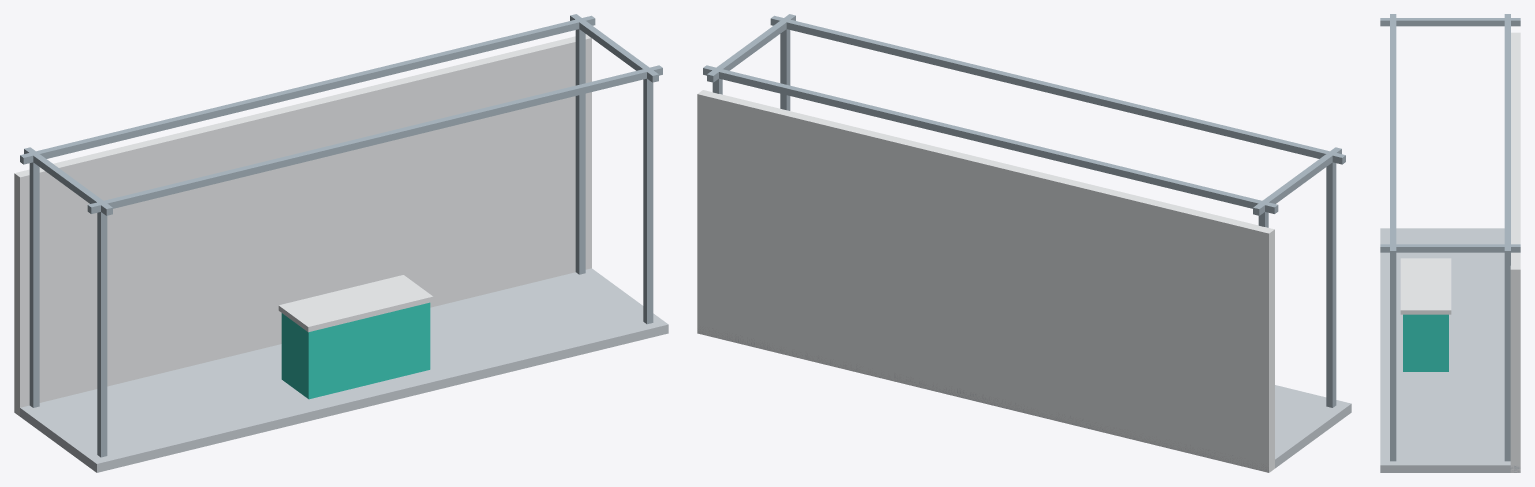
3 views of the same model, side by side, from view 1: azimuth 30°, elevation 25°; view 2: azimuth 150°, elevation 25°; view 3: azimuth 270°, elevation 25° (orthographic). The views are drawn at different scales.
Parts seen in each view (by area): view 1: Exhibition Booth Concept; view 2: Exhibition Booth Concept; view 3: Exhibition Booth Concept.
Part boxes in pixels (box(x1,y1,x2,y2)): Exhibition Booth Concept: box(14, 14, 668, 472); Exhibition Booth Concept: box(697, 14, 1351, 472); Exhibition Booth Concept: box(1380, 14, 1520, 472).
Size of the model in its own units: 8 by 3.49 by 2.
